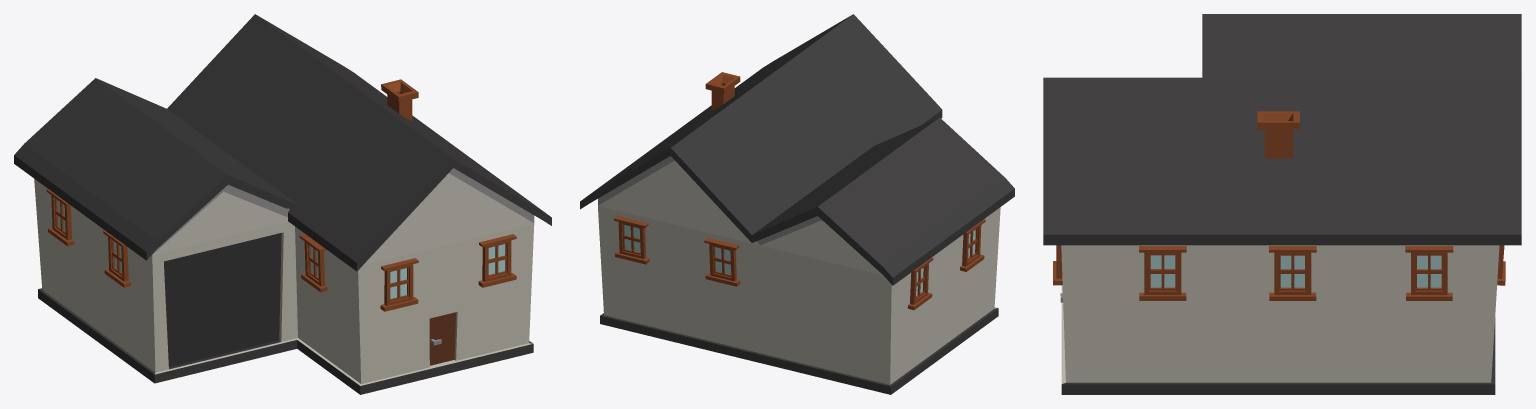
File: house-5.glb
3 renders of one model, left to right at view 1: azimuth 30°, elevation 25°; view 2: azimuth 150°, elevation 25°; view 3: azimuth 270°, elevation 25°, orthographic. The views are drawn at different scales.
Size of the model in its own units: 2.16 by 1.34 by 2.19.
